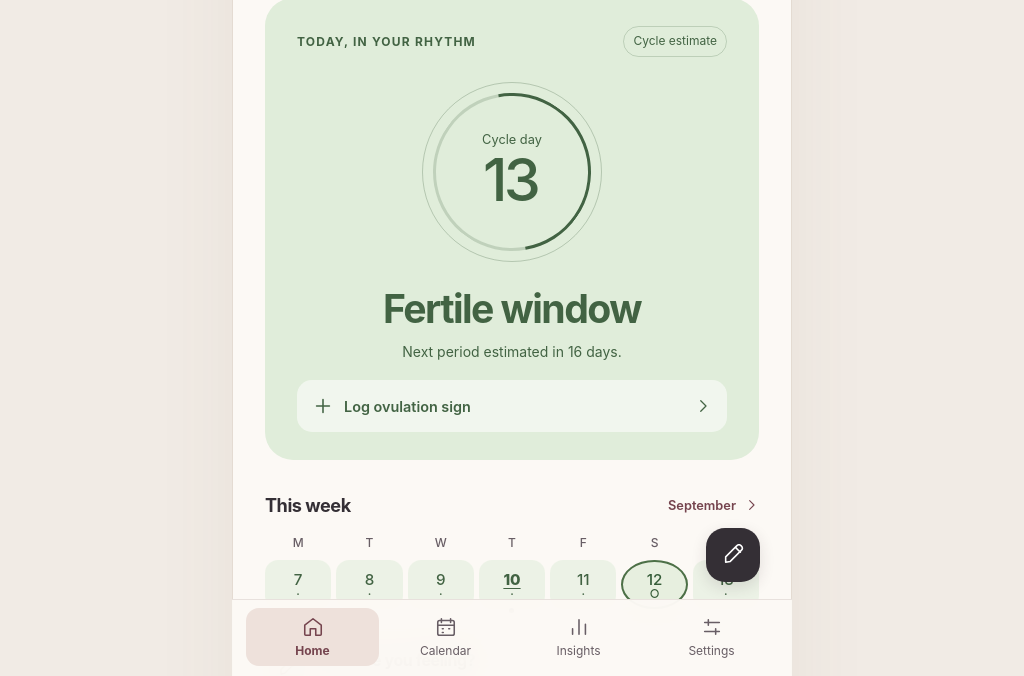
core interaction flows › requires explicit confirmation to delete all data and recovery
This screenshot has width=1024, height=676.
Expected: the button named "Open today’s diary" is shown, [706,528,760,582]
Click the button "Settings" at (712, 637), box [645,608,778,666]
(page scrolled)
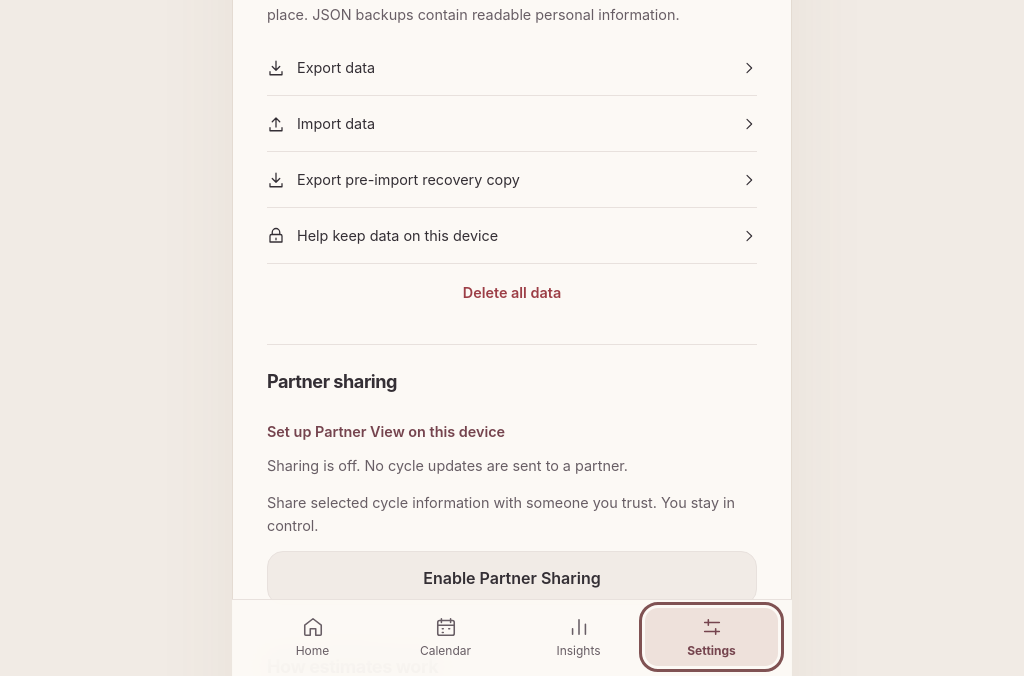
Click the button "Delete all data" at (512, 292), box [267,264,757,320]
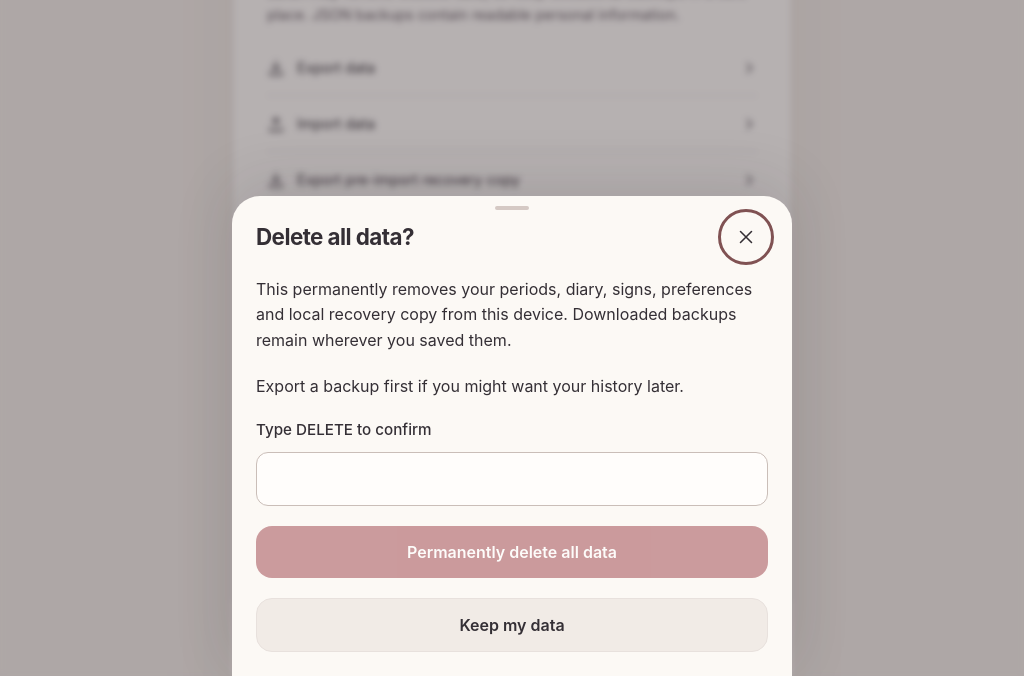
Result: the button "Permanently delete all data" is disabled at [256,526,768,578]
Type "DELETE" into the field labelled "Type DELETE to confirm" at (512, 479), box [256,452,768,506]
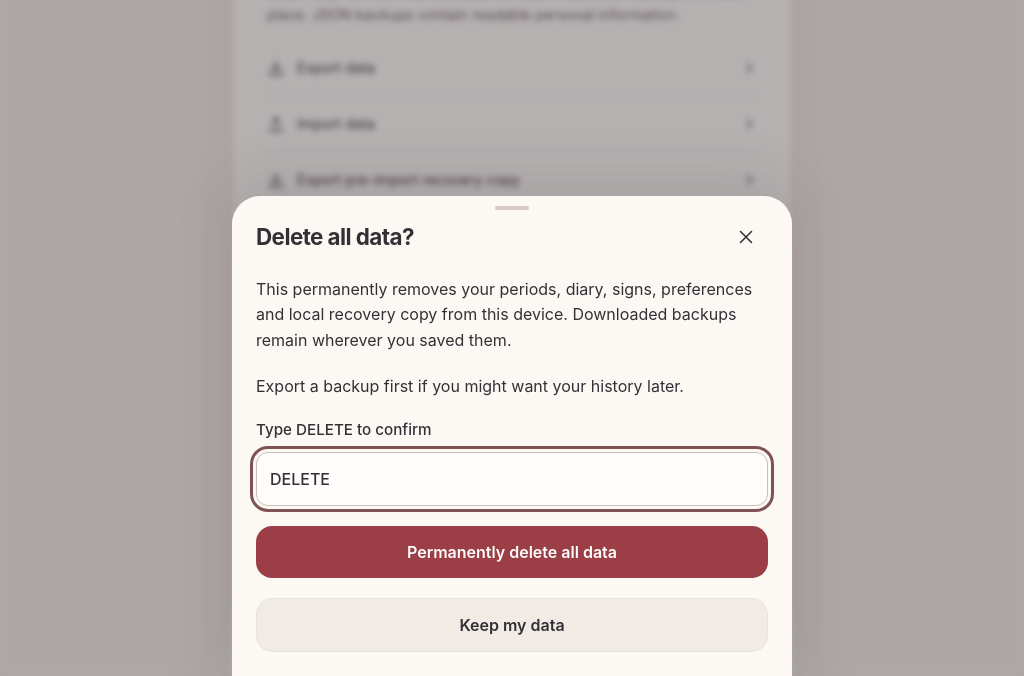
Click the button "Permanently delete all data" at (512, 552), box [256,526,768,578]
(page scrolled)
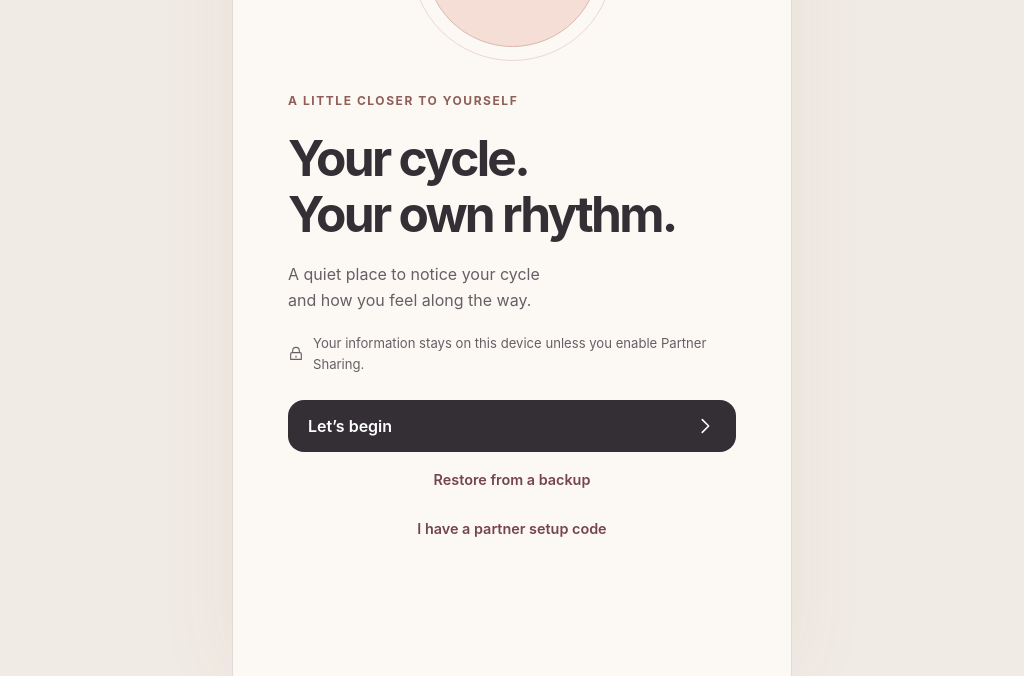
Result: the button "Let’s begin" is shown at [288,400,736,452]
